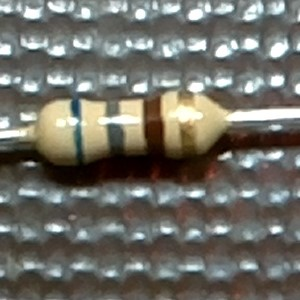blue_band: (68, 95, 88, 169)
brown_band: (141, 93, 168, 160)
gold_band: (175, 87, 201, 163)
grey_band: (103, 97, 128, 159)
